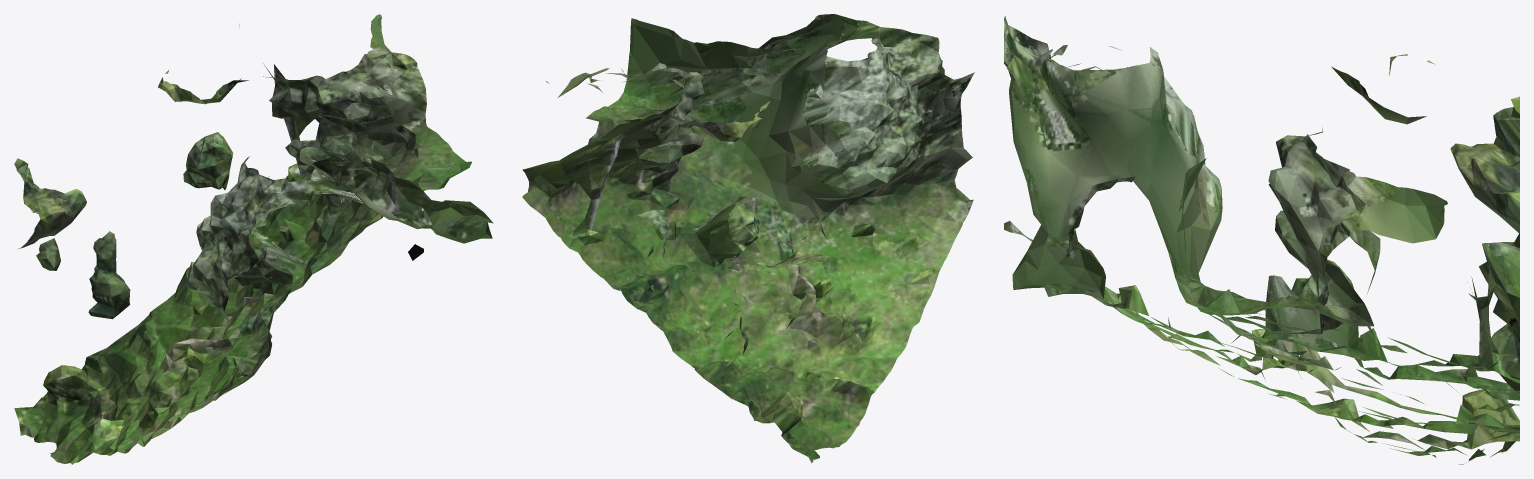
3 views of the same model, side by side, from view 1: azimuth 30°, elevation 25°; view 2: azimuth 150°, elevation 25°; view 3: azimuth 270°, elevation 25° (orthographic). The views are drawn at different scales.
Size of the model in its own units: 26.11 by 26.11 by 26.11.
6 materials, 6 textured.
